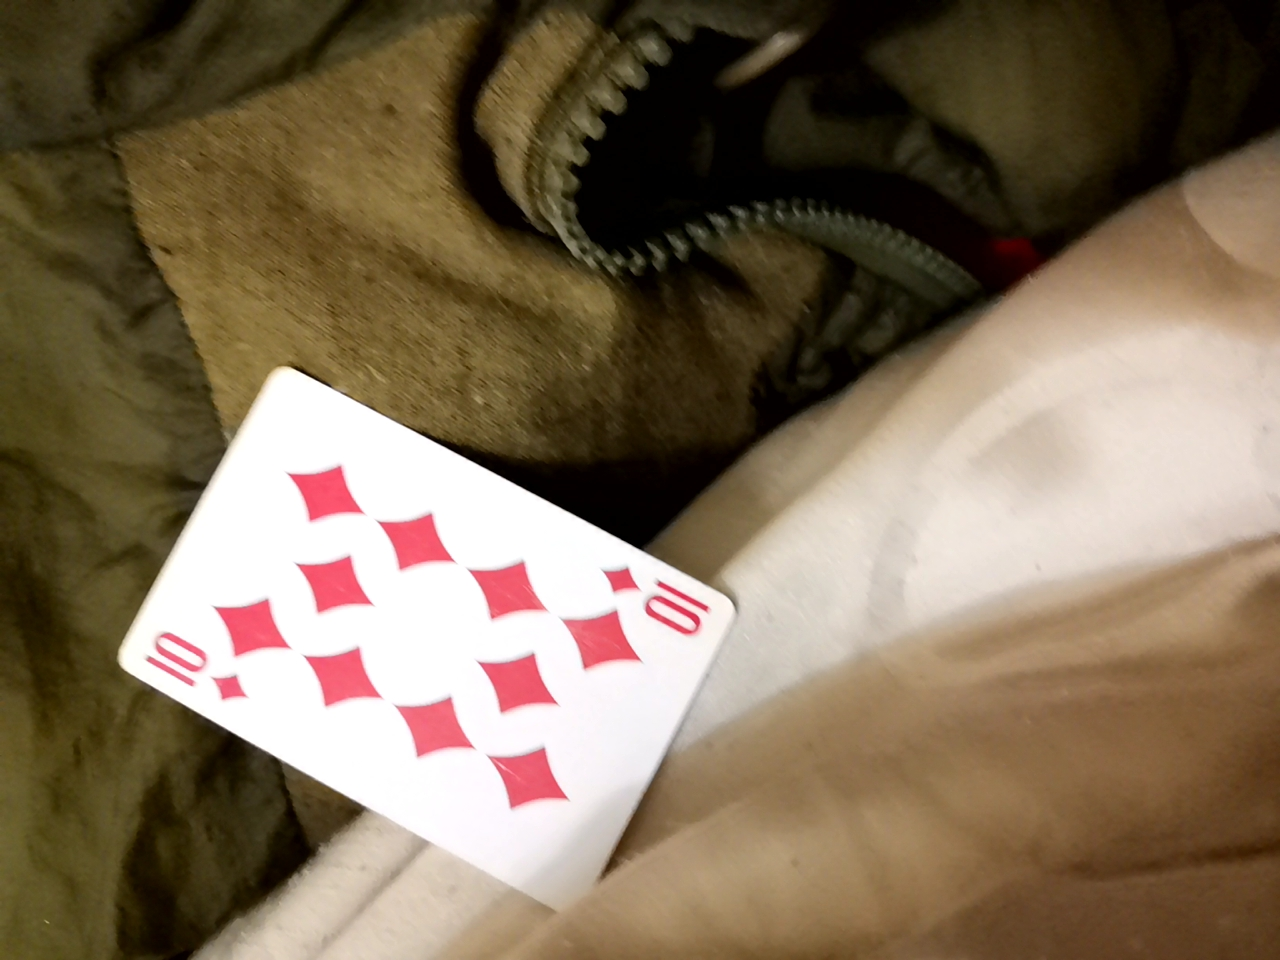fk 10: (148, 386, 780, 915)
